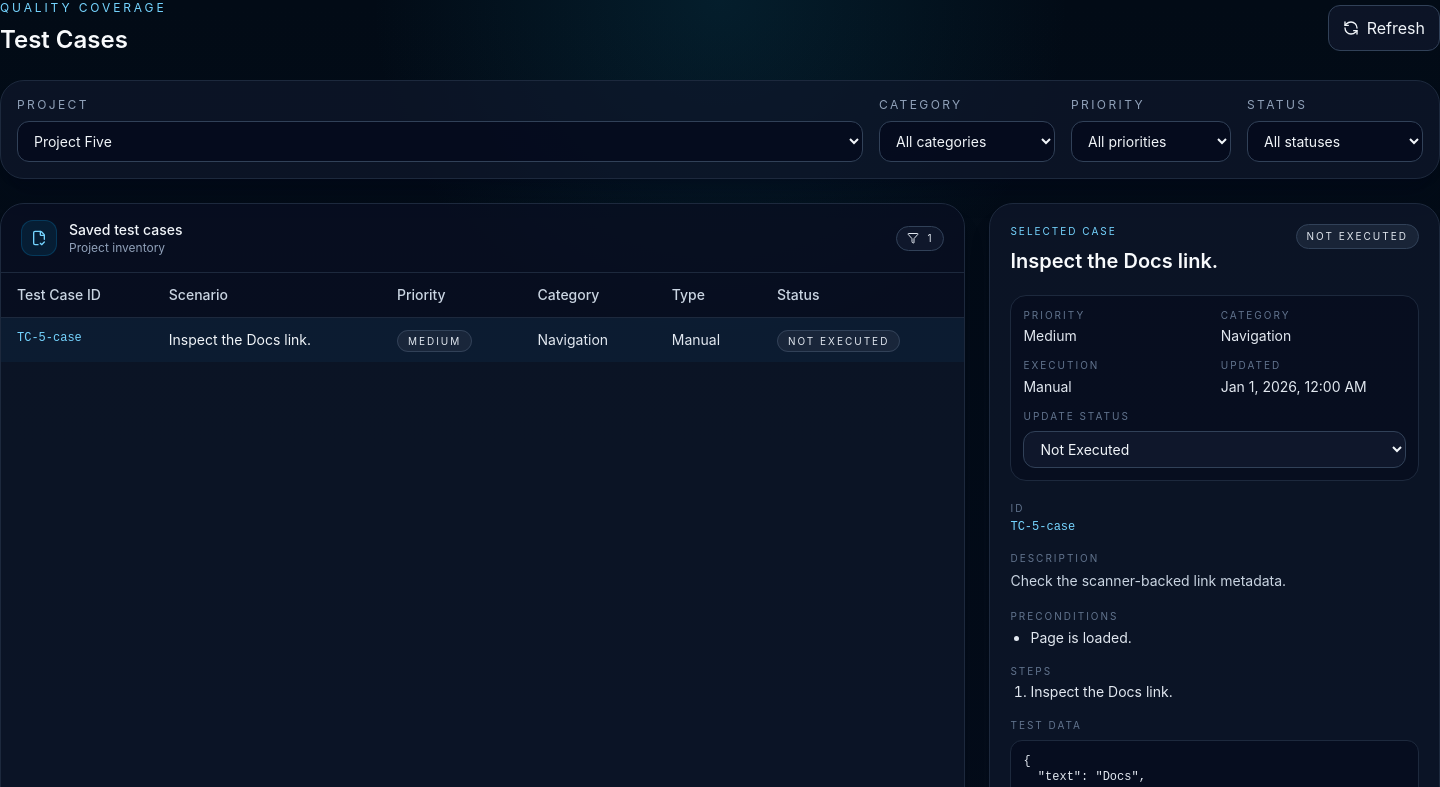
separate generator and saved inventory pages › loads the inventory, filters cases, shows details, and updates status
Expected: the text "Inspect the Docs link." is shown 3 times, [153, 318, 381, 362]; [1010, 247, 1218, 275]; [1030, 683, 1173, 700]
Expected: the list item "Page is loaded." is shown, [1030, 629, 1132, 646]
Select "Navigation" in the dropdown labelled "Category" at (967, 142), box [879, 121, 1055, 162]
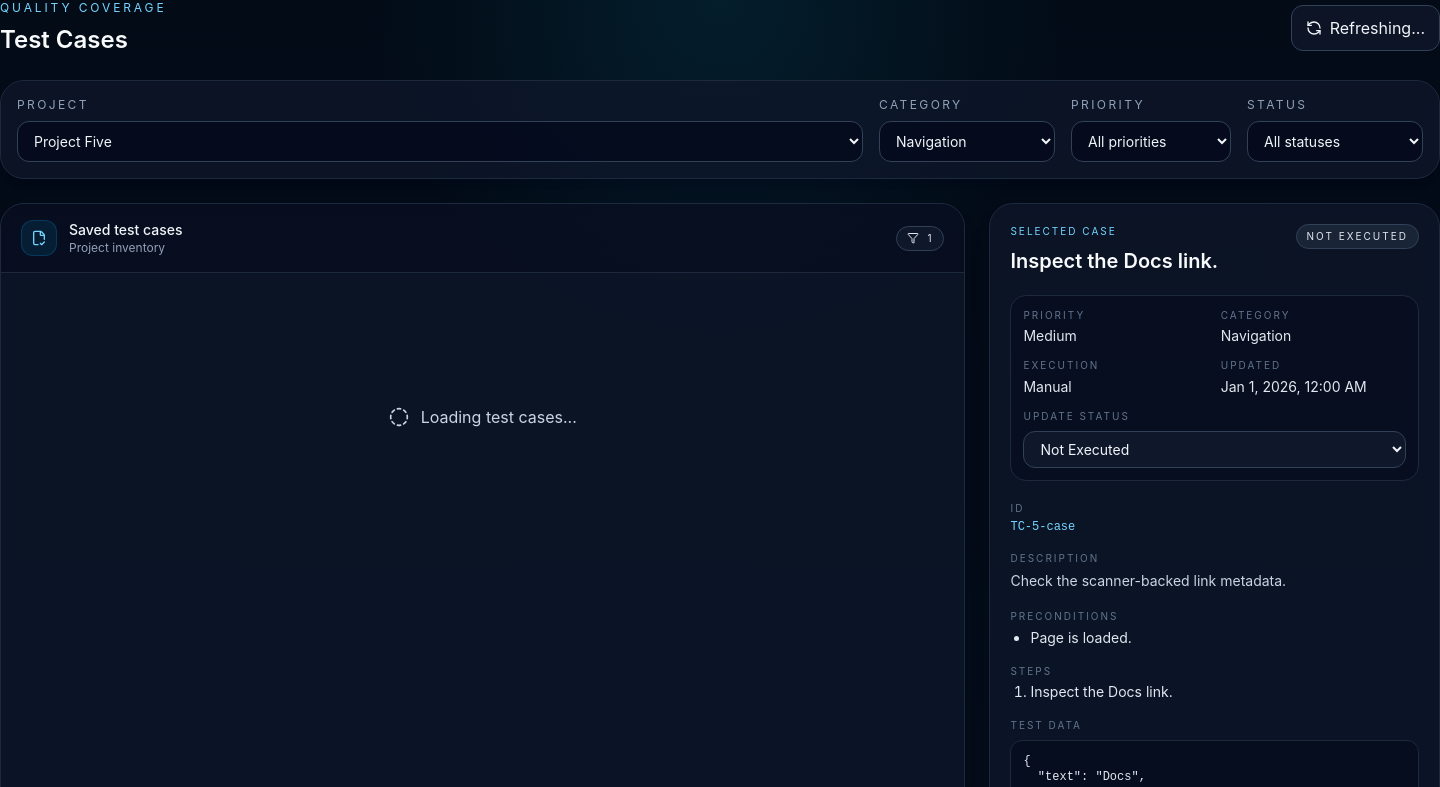
Select "Medium" in the dropdown labelled "Priority" at (1151, 142), box [1071, 121, 1231, 162]
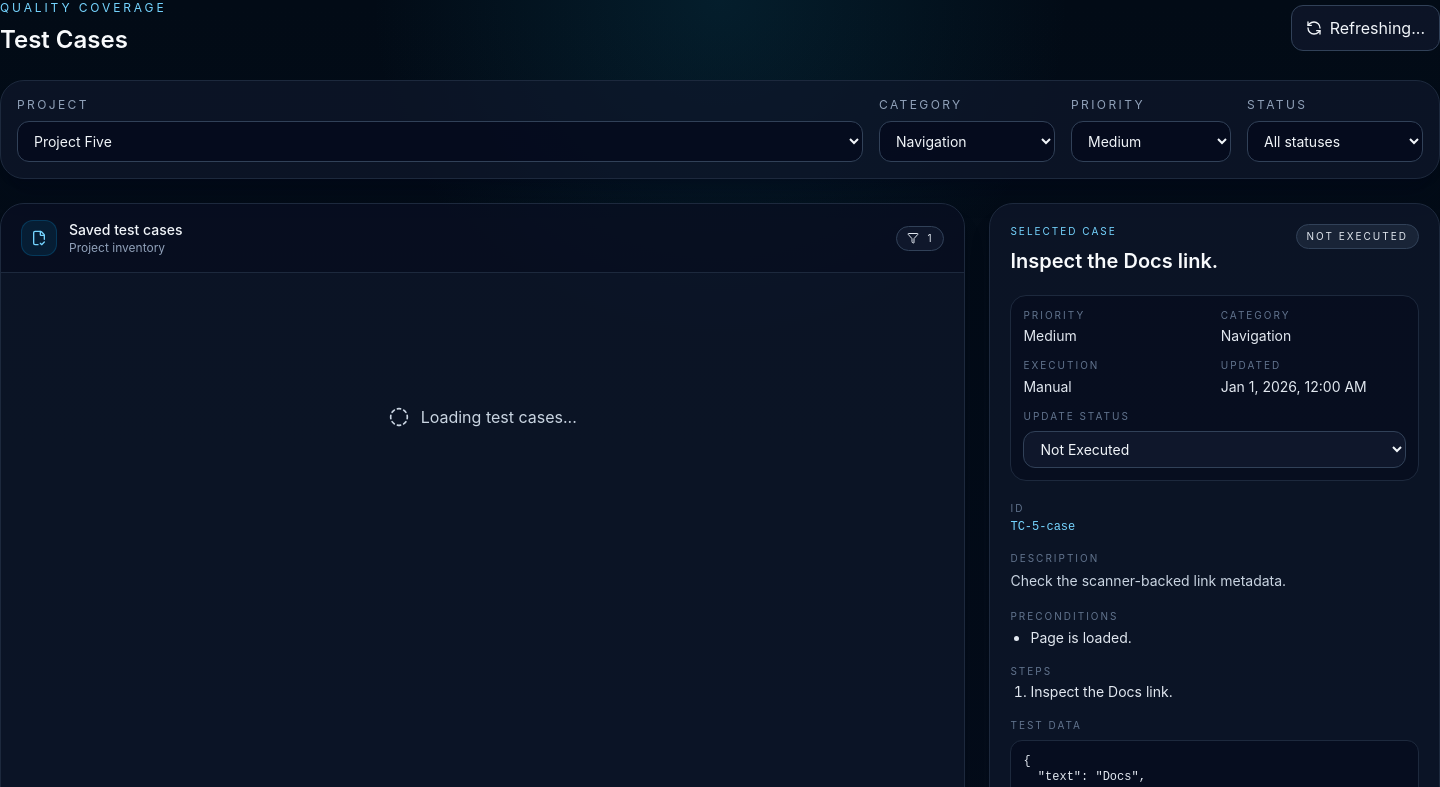
Select "Not Executed" in the dropdown labelled "Status" at (1335, 142), box [1247, 121, 1423, 162]
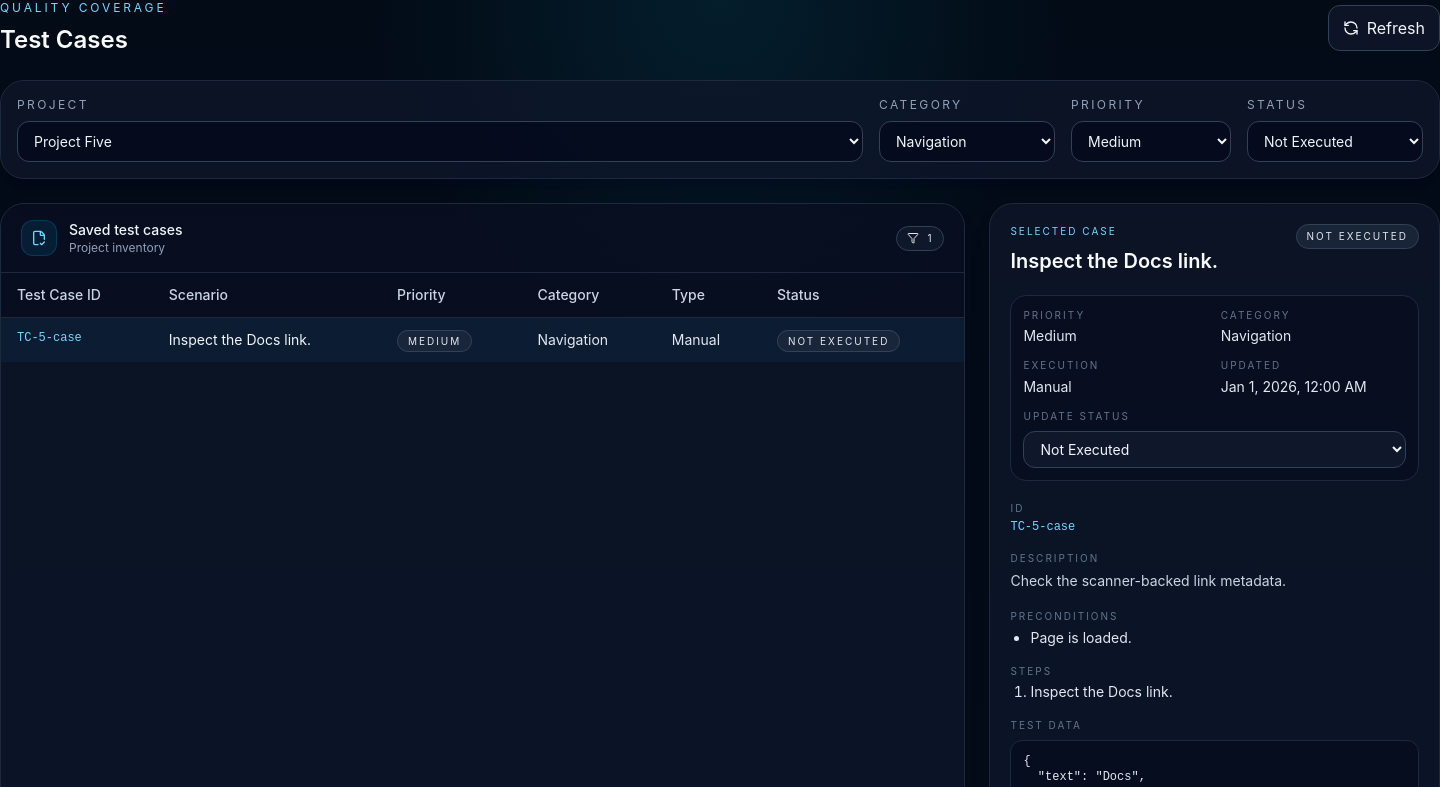
Select "All statuses" in the dropdown labelled "Status" at (1335, 142), box [1247, 121, 1423, 162]
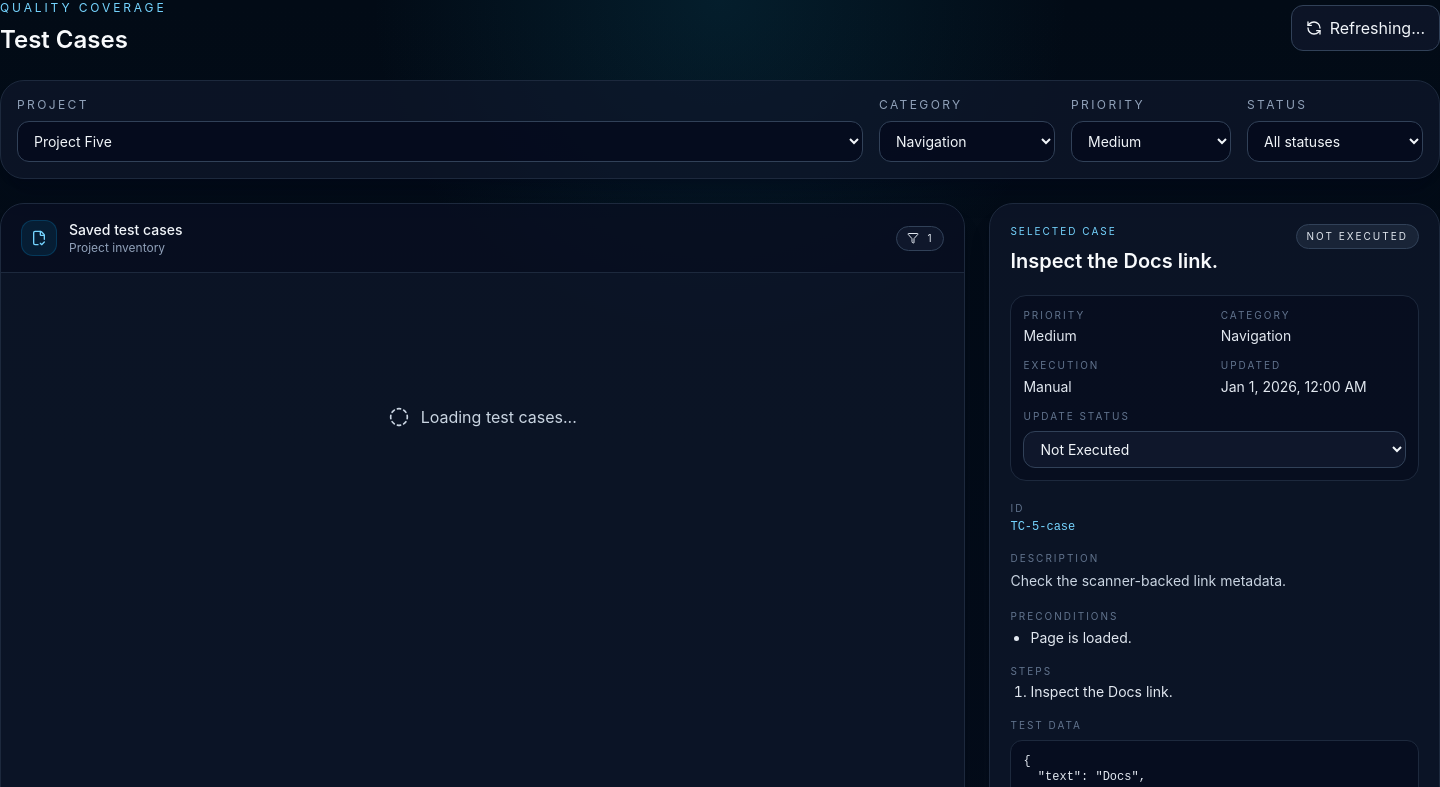
Select "Passed" in the dropdown labelled "Update status" at (1215, 449), box [1024, 431, 1406, 468]
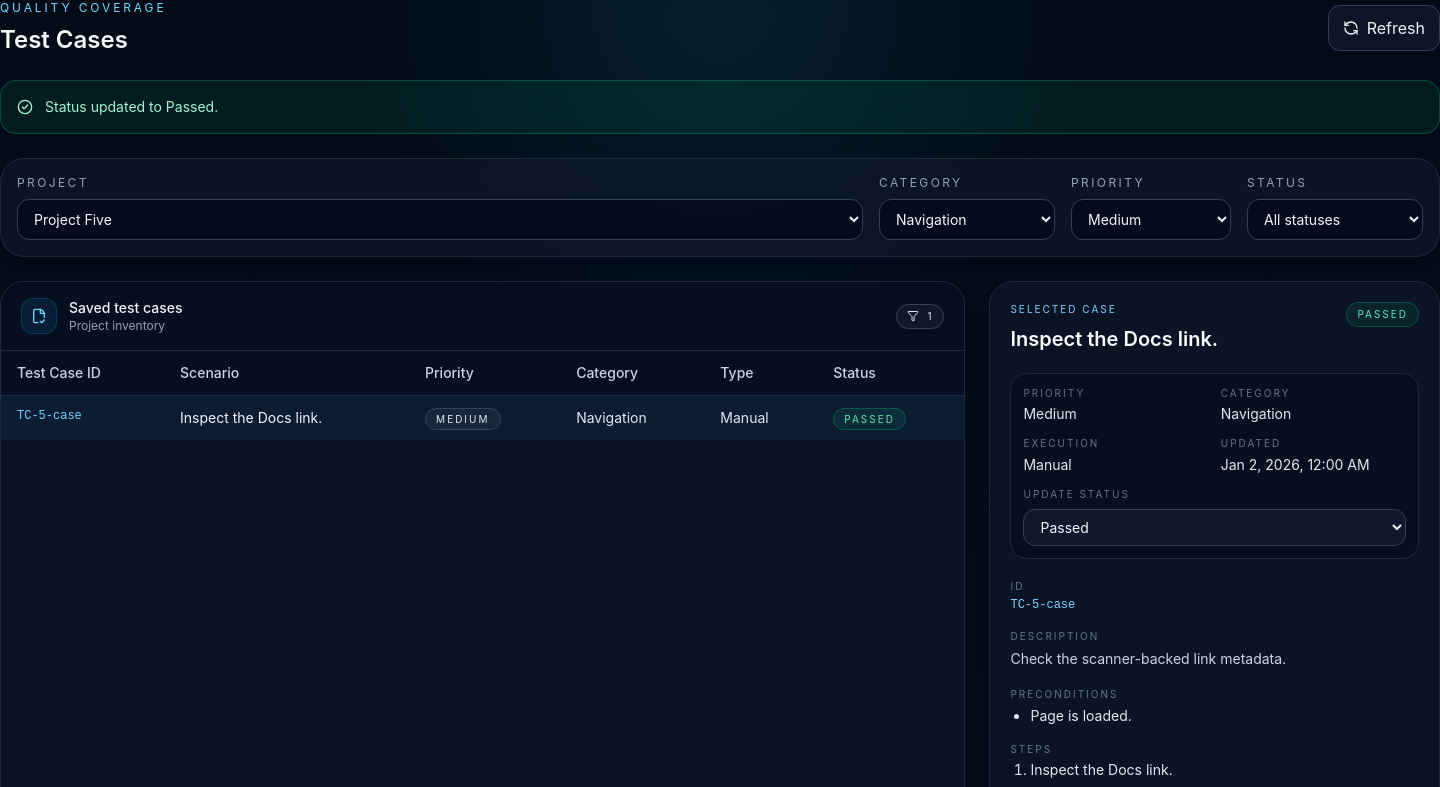
Result: the text "Status updated to Passed." is shown at [45, 97, 218, 117]
Result: the text "Passed" is shown 2 times at [833, 408, 906, 430]; [1346, 302, 1419, 327]
